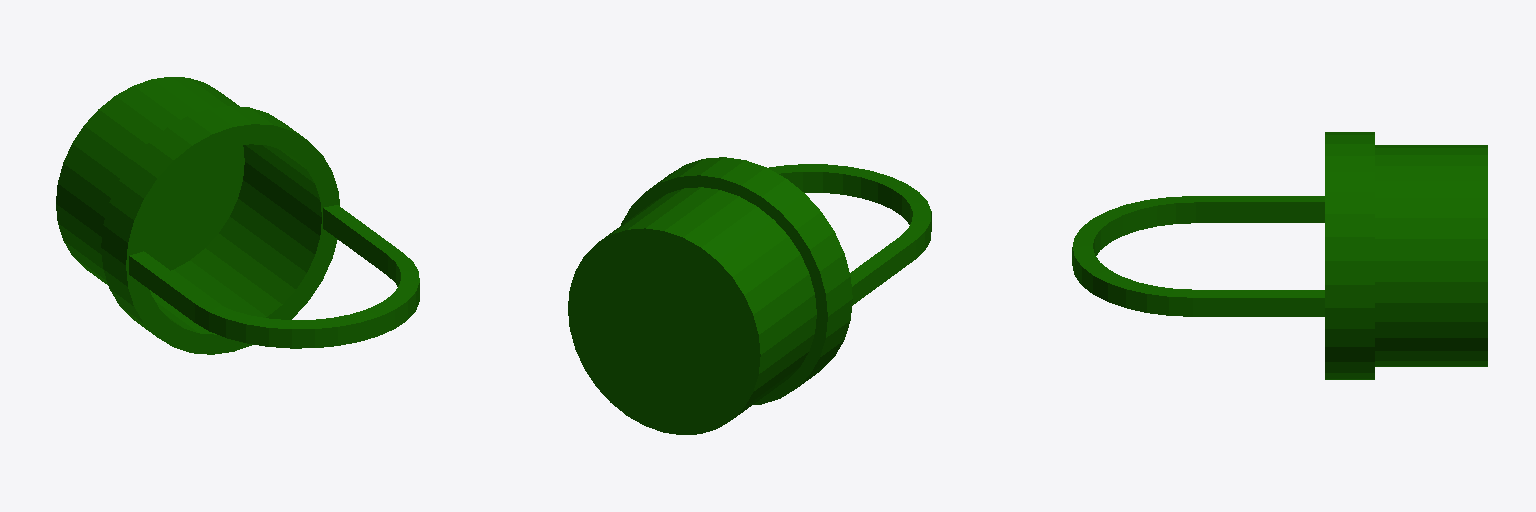
Rendered from pozoVerde.obj.
3 views of the same model, side by side, from view 1: azimuth 30°, elevation 25°; view 2: azimuth 150°, elevation 25°; view 3: azimuth 270°, elevation 25° (orthographic).
Parts seen in each view (by area): view 1: Cylinder.001, Cylinder_Cylinder.002; view 2: Cylinder.001, Cylinder_Cylinder.002; view 3: Cylinder.001, Cylinder_Cylinder.002.
Part boxes in pixels (left/top/right/bottom): Cylinder.001: left=56, top=77, right=339, bottom=354; Cylinder_Cylinder.002: left=129, top=205, right=419, bottom=348; Cylinder.001: left=568, top=157, right=852, bottom=434; Cylinder_Cylinder.002: left=768, top=164, right=931, bottom=305; Cylinder.001: left=1325, top=132, right=1487, bottom=379; Cylinder_Cylinder.002: left=1072, top=196, right=1324, bottom=316.
Size of the model in its own units: 4.81 by 4.81 by 8.04.